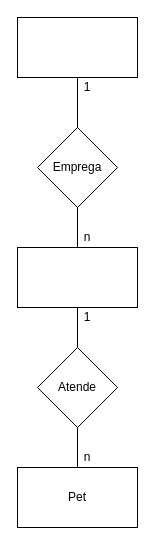
Some shapes in this 155 by 545 pixel diagram are drawn without their labels. The centre of each missing label's shape, as x and y in pixels:
"Clinica" belongs at pixel 77 47.
"Veterinario" belongs at pixel 77 277.
